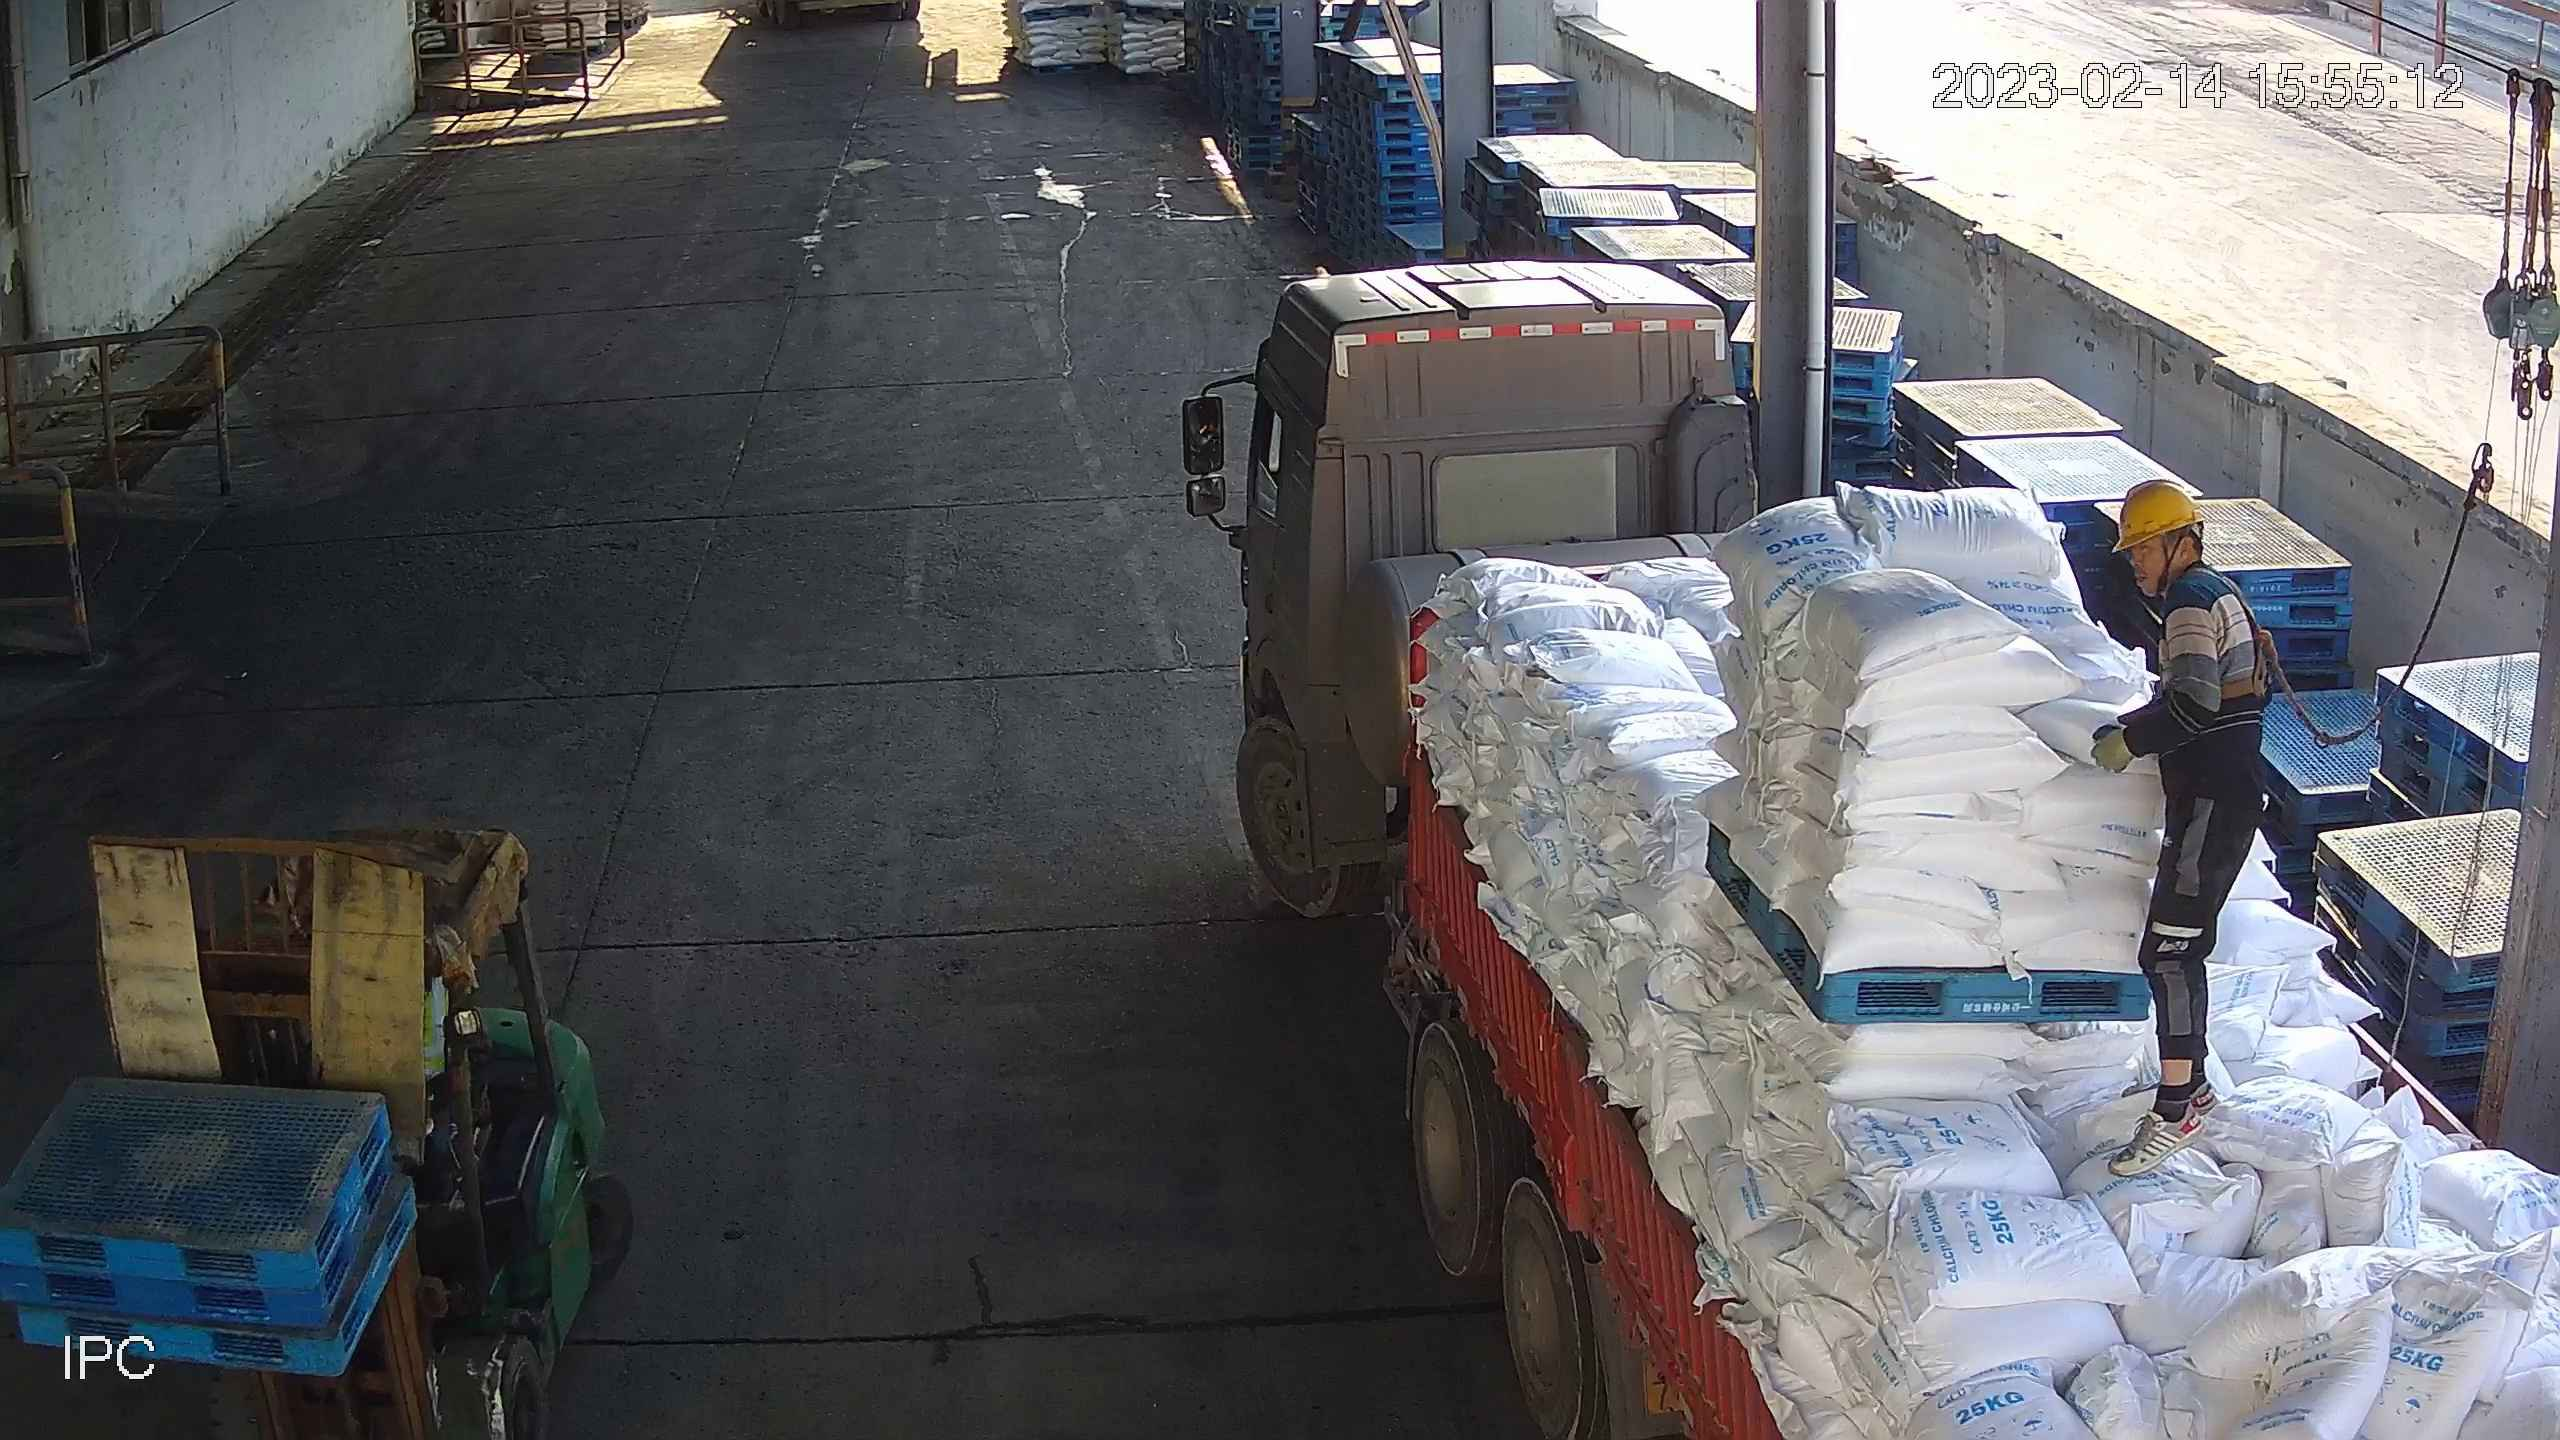belt: (2182, 577, 2293, 715)
head: (2096, 481, 2254, 637)
helmet: (2107, 478, 2209, 546)
people: (2090, 485, 2267, 1172)
truck: (1183, 248, 2560, 1440)
